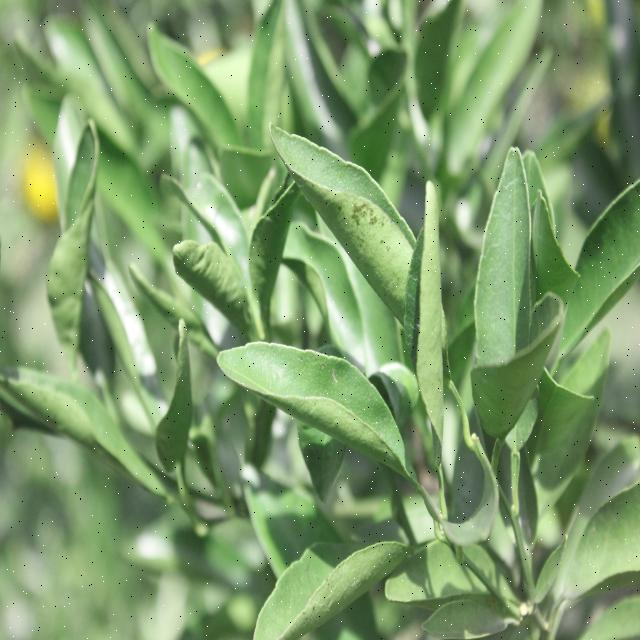melanose: (287, 132, 406, 296)
